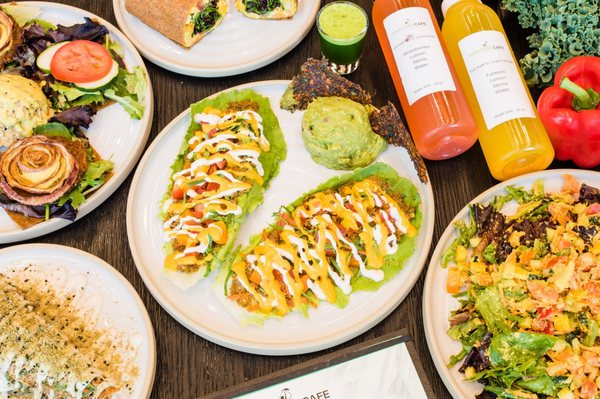pizza: (316, 1, 370, 75)
sushi: (421, 170, 600, 398), (0, 0, 155, 247), (0, 244, 158, 396)
